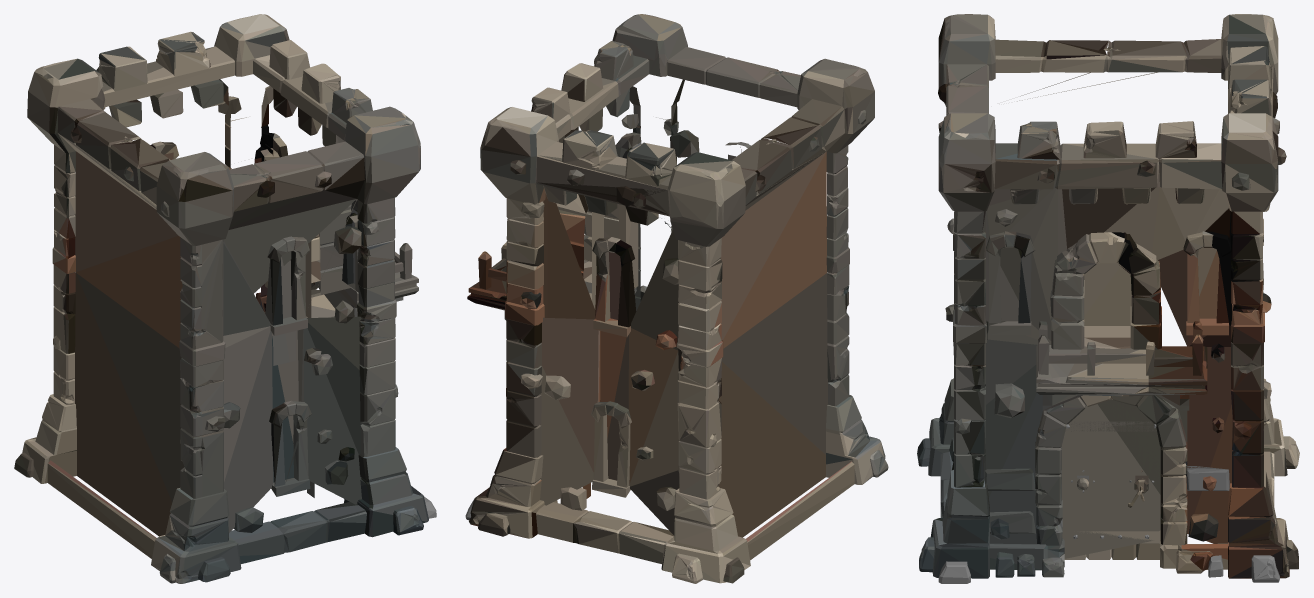
The model's file is Tower_Gate.glb.
3 views of the same model, side by side, from view 1: azimuth 30°, elevation 25°; view 2: azimuth 150°, elevation 25°; view 3: azimuth 270°, elevation 25° (orthographic). The views are drawn at different scales.
Parts seen in each view (by area): view 1: world; view 2: world; view 3: world.
Boxes of the visible parts, x1=… form: world: x1=14, y1=14, x2=436, y2=583; world: x1=465, y1=14, x2=888, y2=583; world: x1=917, y1=14, x2=1299, y2=583.
Bounding box in the file's own units: 0.7754 × 0.998 × 0.791.
